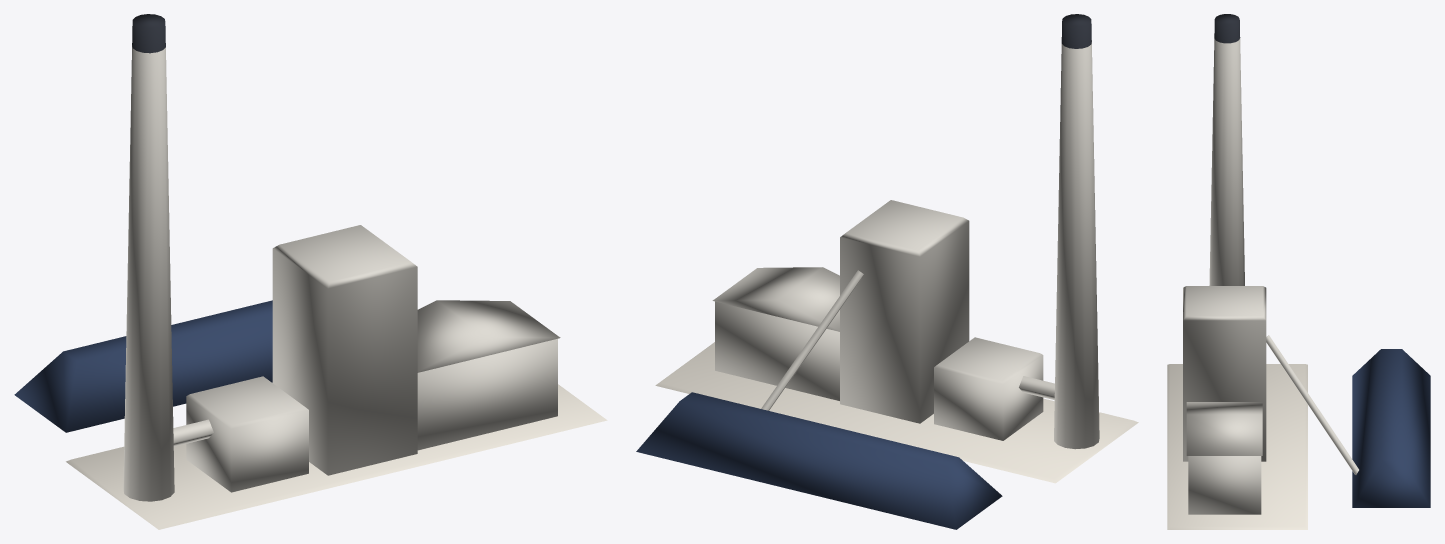
Rendered from termica-carvao.glb.
3 renders of one model, left to right at view 1: azimuth 30°, elevation 25°; view 2: azimuth 150°, elevation 25°; view 3: azimuth 270°, elevation 25°, orthographic. The views are drawn at different scales.
Visible parts, largest first — view 1: termica-carvao; view 2: termica-carvao; view 3: termica-carvao.
Part boxes in pixels (x1,y1,x2,y2): termica-carvao: (14, 14, 607, 529); termica-carvao: (636, 14, 1138, 529); termica-carvao: (1167, 14, 1430, 529).
Size of the model in its own units: 150 by 151 by 101.
